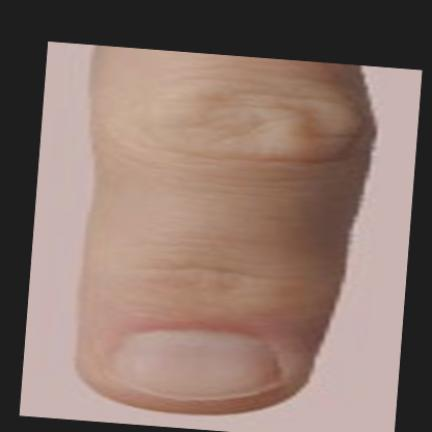Nail: (108, 329, 281, 401)
